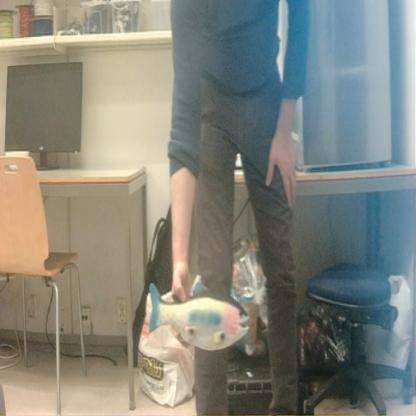rubberfish: (145, 272, 251, 358)
